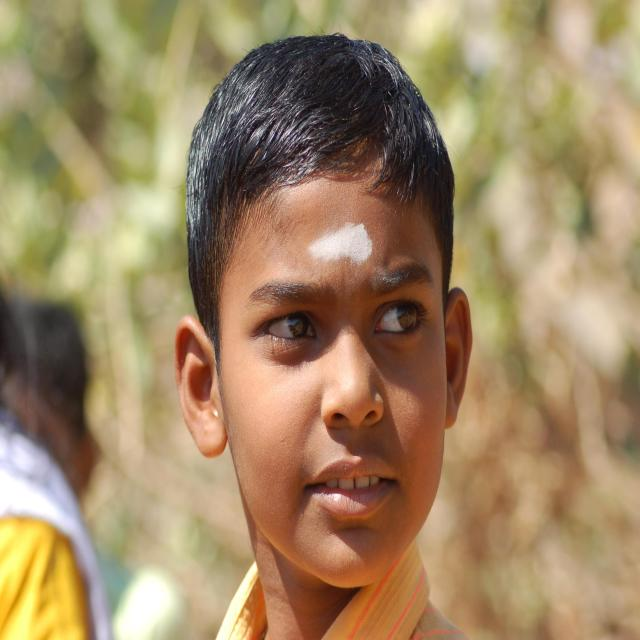no-glass: (255, 298, 428, 347)
